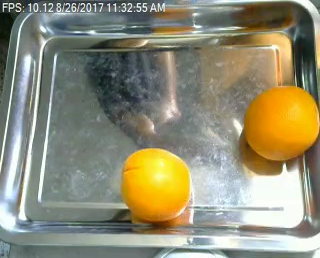Orange: (244, 83, 319, 160), (120, 148, 191, 221)
